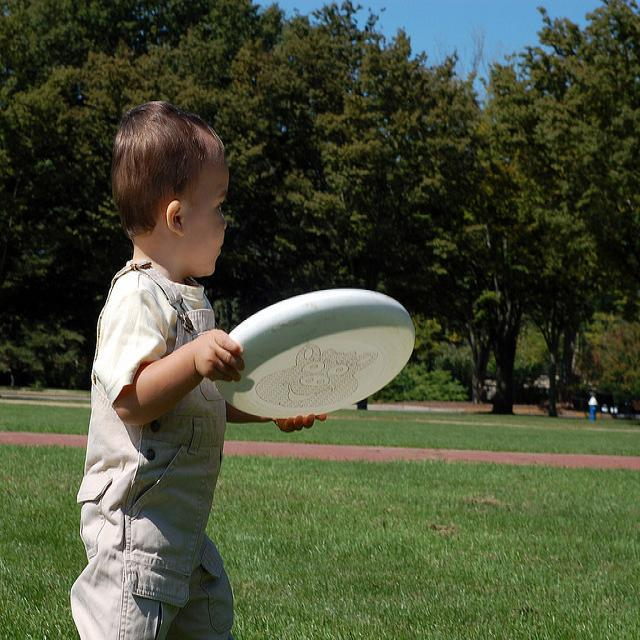fire_hydrant: (588, 395, 598, 420)
